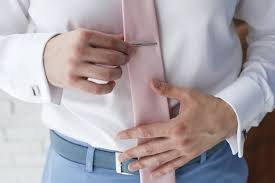F_belt: (44, 122, 247, 176)
F_tie: (124, 8, 183, 181)
